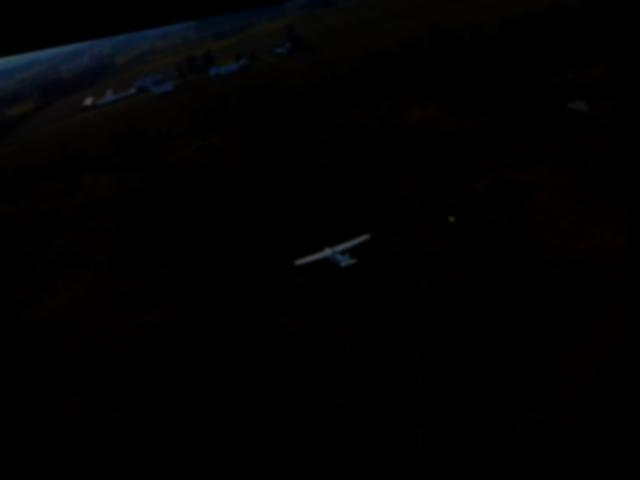uav: (280, 217, 390, 286)
